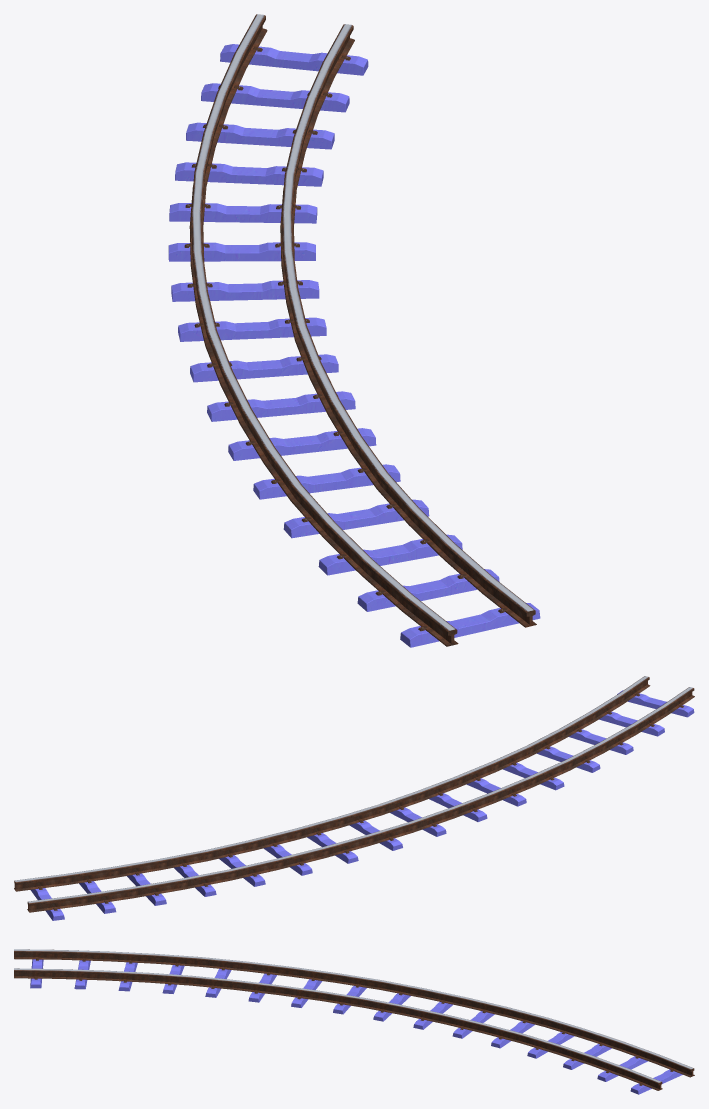
File: radius_3.fbx
3 renders of one model, top to bottom at view 1: azimuth 30°, elevation 25°; view 2: azimuth 150°, elevation 25°; view 3: azimuth 270°, elevation 25°, orthographic. The views are drawn at different scales.
Parts seen in each view (by area): view 1: Sleepers, Rail, Fasteners; view 2: Rail, Sleepers, Fasteners; view 3: Rail, Sleepers, Fasteners.
Part boxes in pixels (box(x1,y1,x2,y2)): Sleepers: box(168, 44, 540, 647); Rail: box(189, 14, 536, 646); Fasteners: box(184, 47, 507, 631); Rail: box(14, 676, 694, 912); Sleepers: box(30, 690, 694, 920); Fasteners: box(38, 693, 683, 910); Rail: box(14, 949, 694, 1090); Sleepers: box(30, 959, 682, 1094); Fasteners: box(34, 958, 674, 1085).
Size of the model in its own units: 58.12 by 2.5 by 120.
